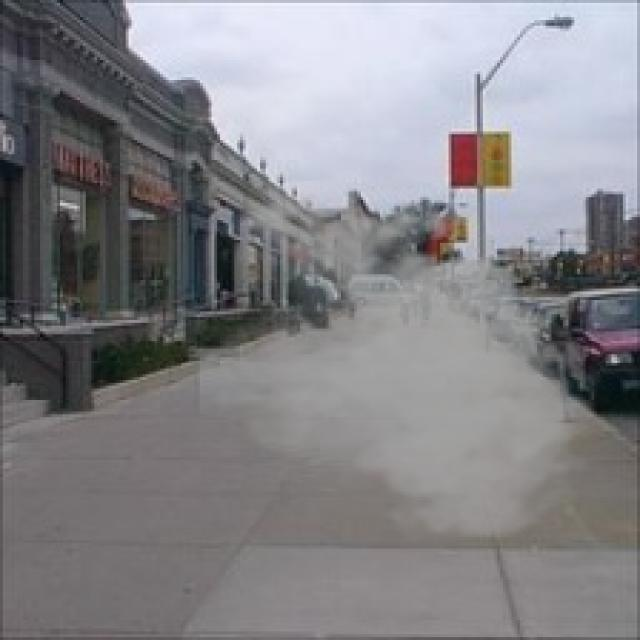Smoke: (194, 182, 609, 548)
